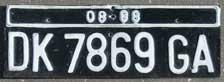6: (108, 29, 134, 73)
7: (62, 28, 86, 74)
8: (86, 30, 108, 74)
9: (134, 28, 156, 74)
A: (190, 28, 216, 74)
D: (6, 29, 30, 72)
G: (166, 28, 190, 74)
K: (31, 29, 56, 72)
